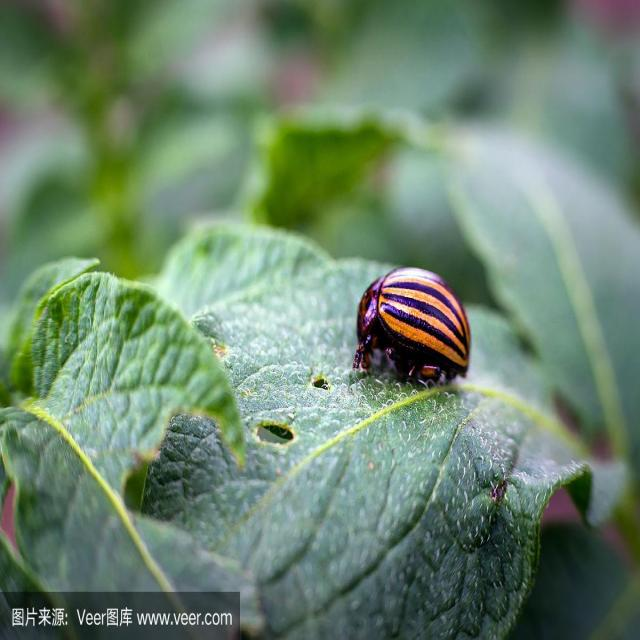ShuCaiHuaBanChong-Grown-: (363, 255, 486, 419)
